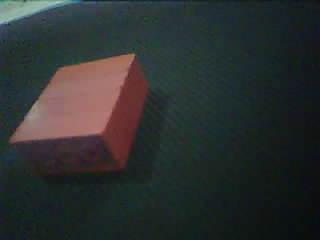lego: (8, 51, 152, 181)
